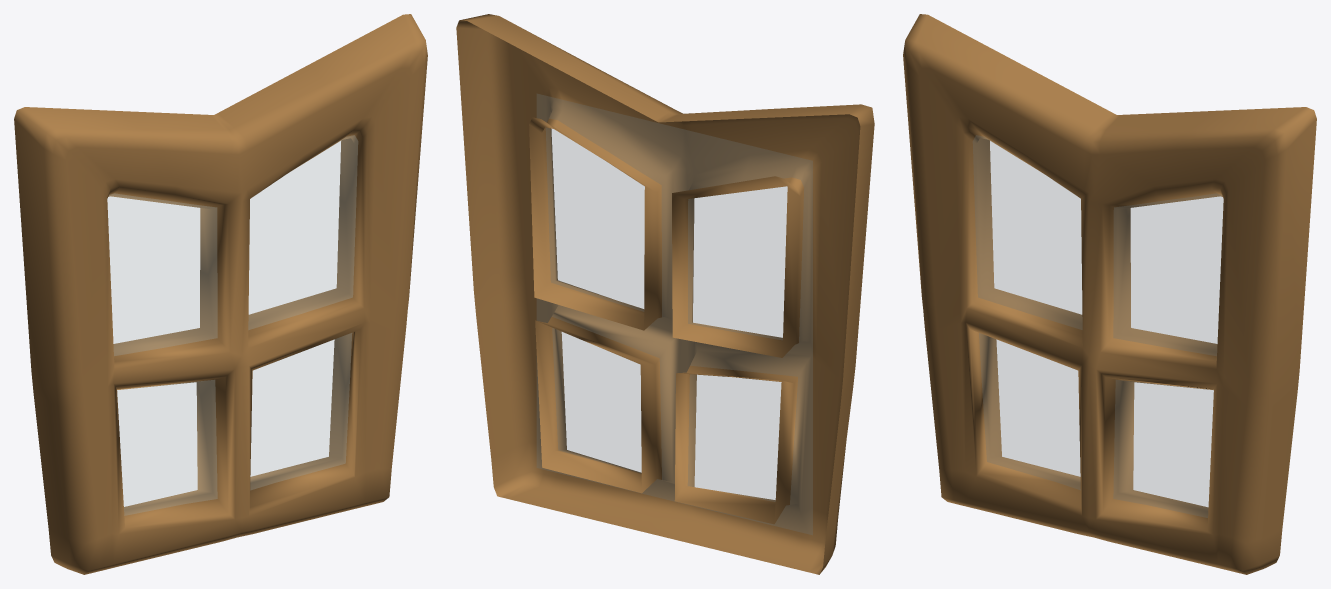
Rendered from props_window_5.fbx.
The picture shows the model from 3 angles, left to right: view 1: azimuth 30°, elevation 25°; view 2: azimuth 150°, elevation 25°; view 3: azimuth 330°, elevation 25°; orthographic projection.
Parts seen in each view (by area): view 1: Props_window5; view 2: Props_window5; view 3: Props_window5.
Part boxes in pixels (x1,y1,x2,y2): Props_window5: (14, 14, 427, 574); Props_window5: (456, 14, 874, 574); Props_window5: (903, 14, 1316, 574).
Bounding box in the file's own units: 188 × 209 × 22.89.
